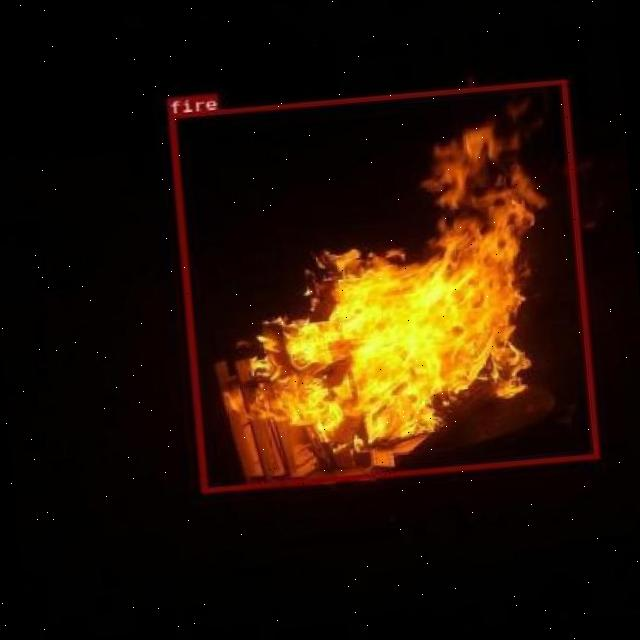fire: (167, 79, 599, 492)
